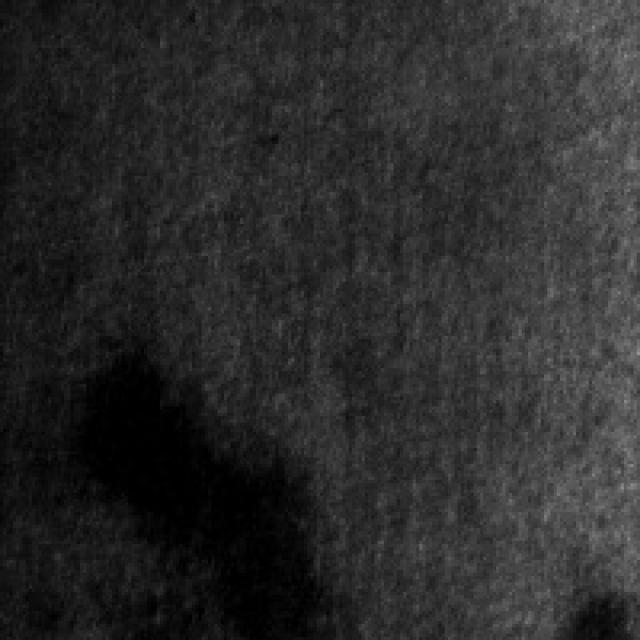patches: (67, 346, 320, 624)
